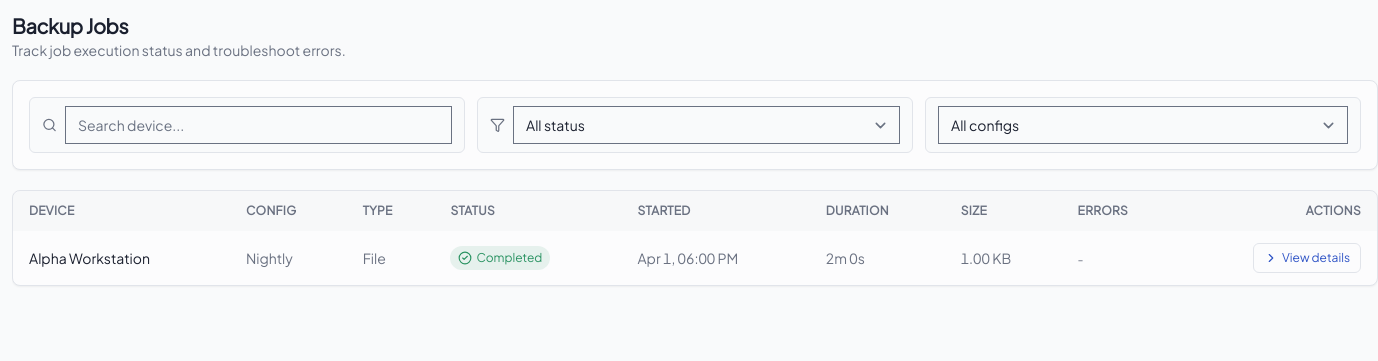
Test: BackupJobList › shows an error when job details cannot be loaded
This screenshot has width=1378, height=361.
Expected: the text "Alpha Workstation" is shown, [13,231,230,285]
Step 1. Click the button with aria-label "View details for Alpha Workstation backup" → (1307, 258), box [1253,243,1361,273]
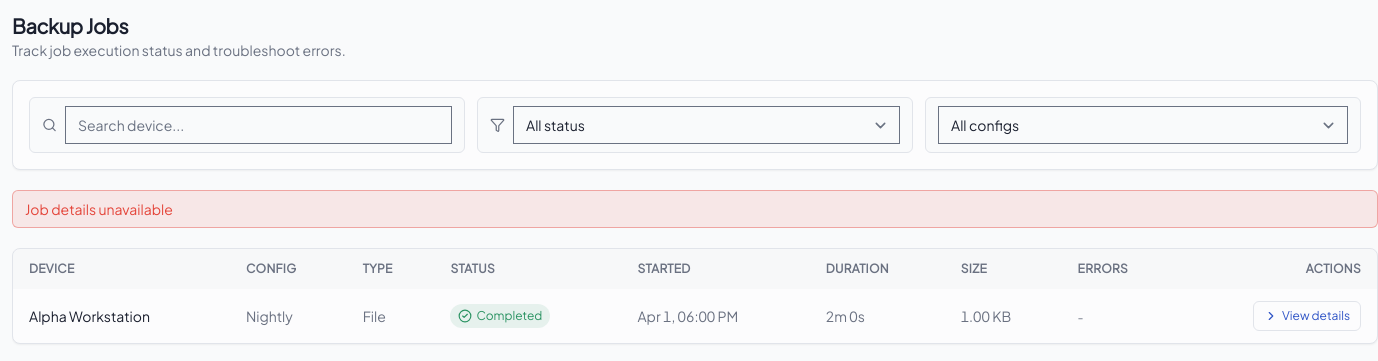
Now the text "Job details unavailable" is shown, box [12,190,1377,228]
